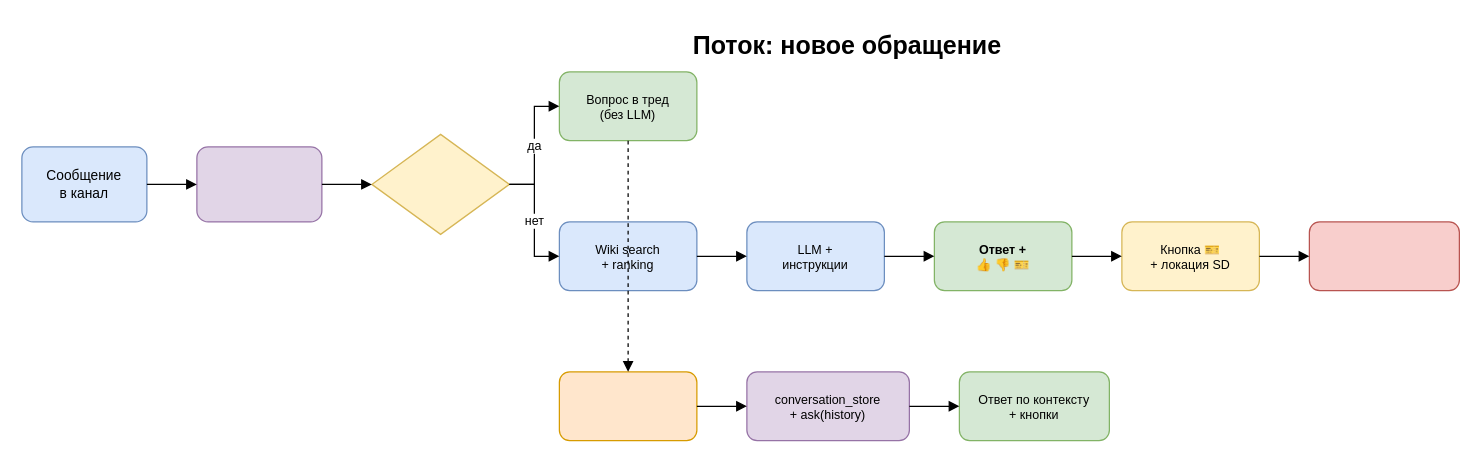
Image size: 1481x463. Some labels were removed from this diagram. The box of each missing label's shape, as (x1, y1, x2, y2) in pixels:
Follow-up в треде: (558, 371, 697, 441)
Routing + тикет Tracker: (1308, 221, 1459, 291)
Webhook + тред: (196, 146, 322, 222)
Нужно уточнение?: (371, 133, 509, 234)
